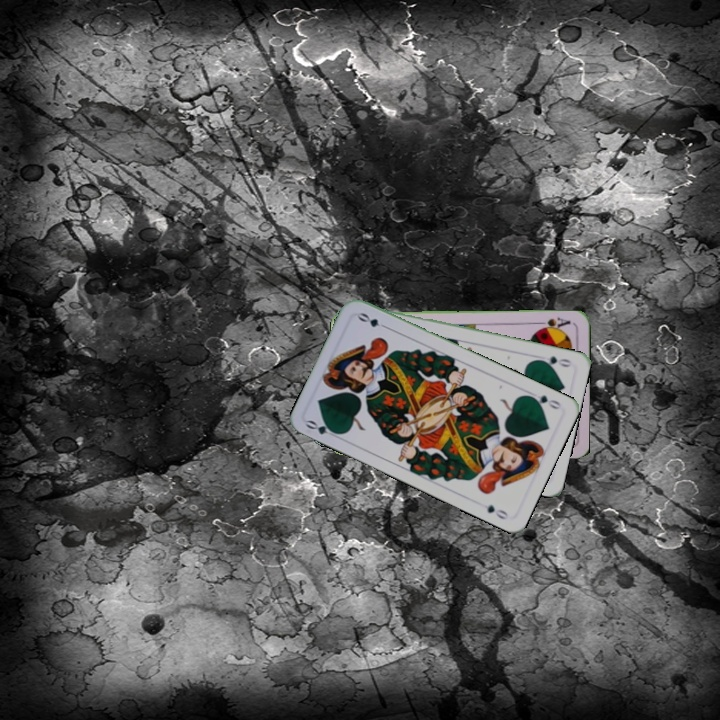GO: (302, 416, 342, 441), (524, 391, 563, 412), (534, 352, 574, 370)
SA: (534, 313, 573, 333)
